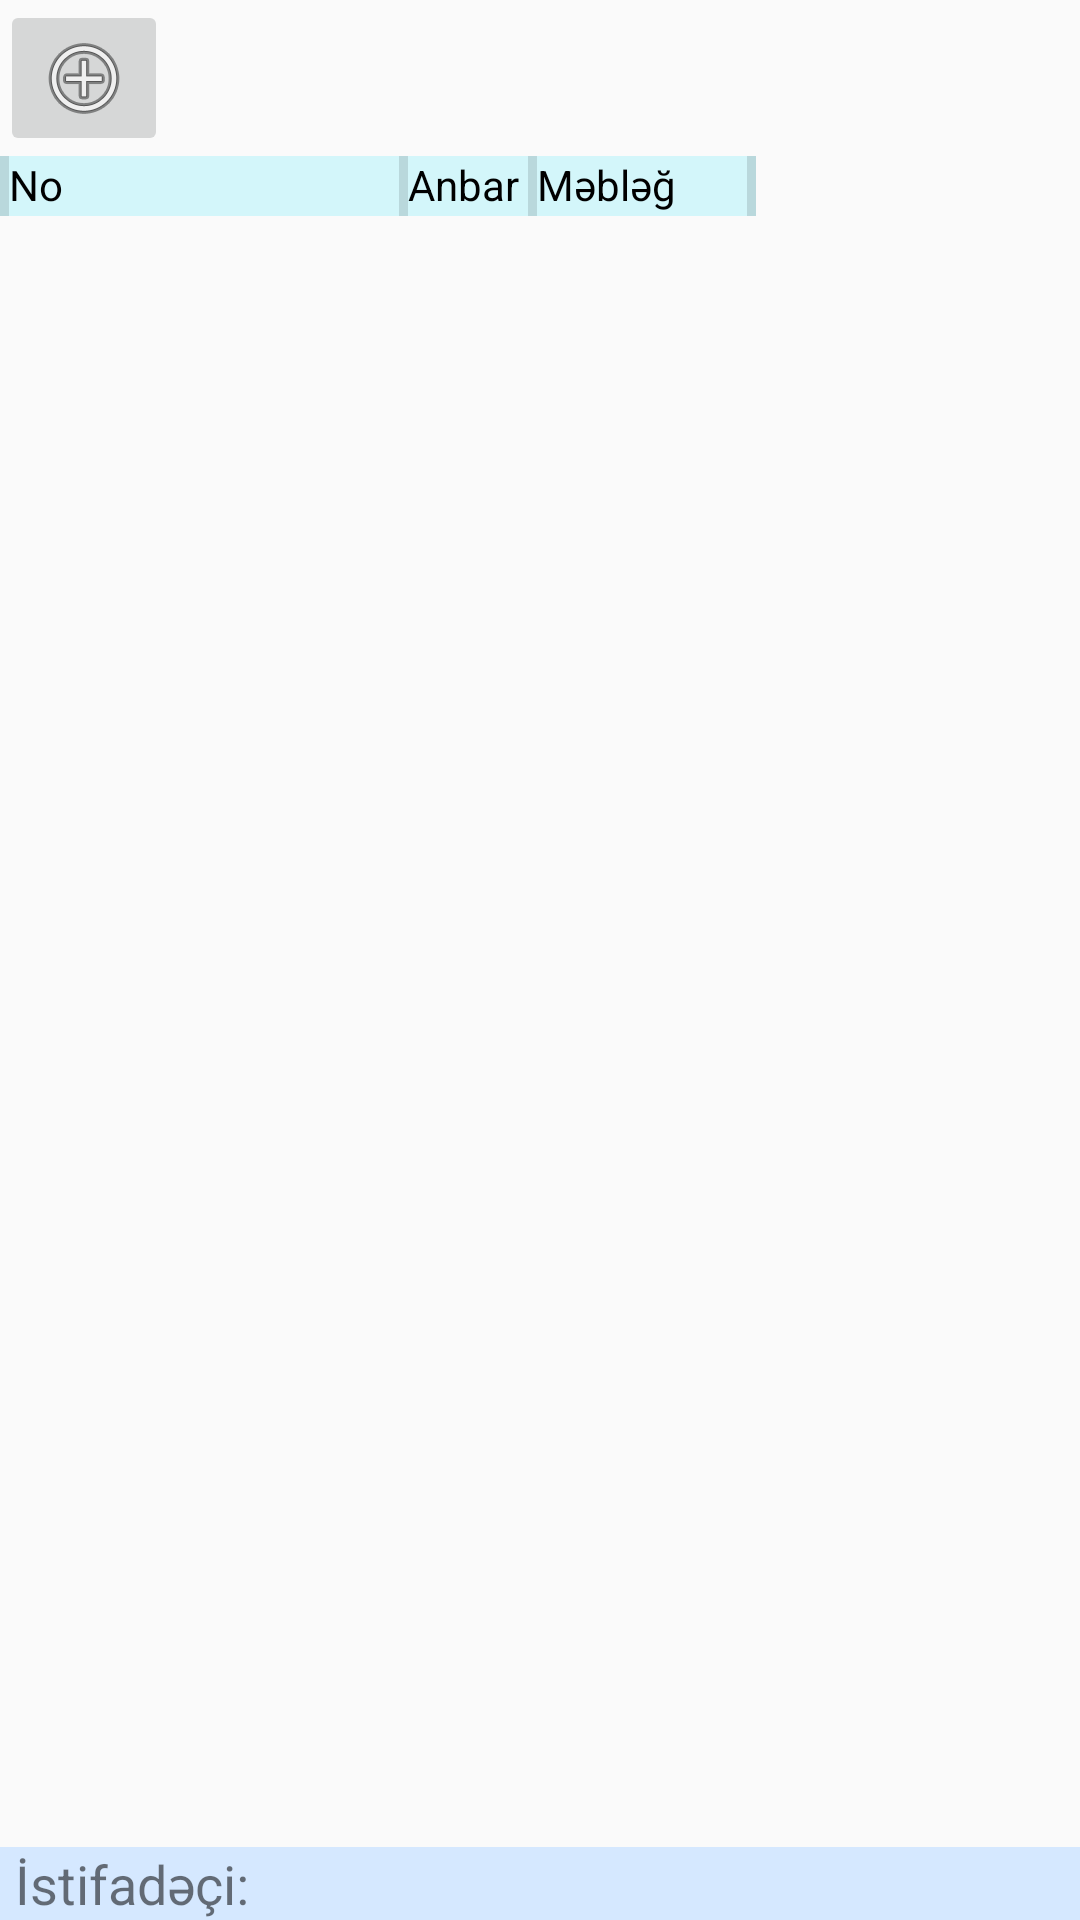

Screen size 1080×1920. Icon name, then its box in pixels as (x1, y1, x2, y2):
Yeni: (12, 18, 156, 138)
